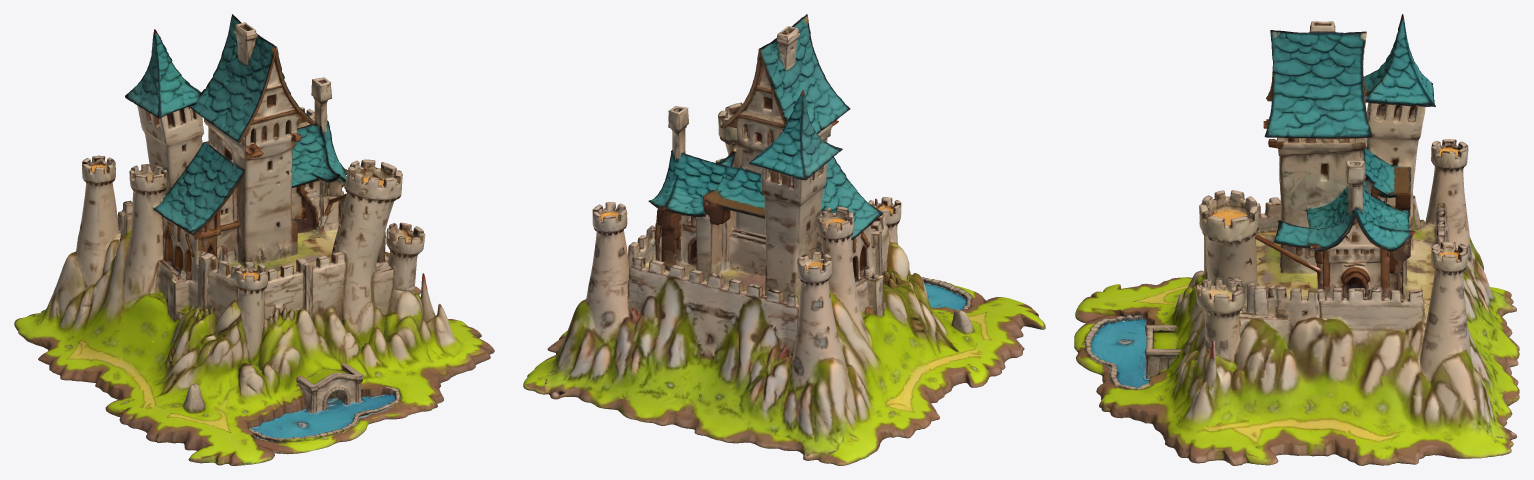
The model's file is Please_provide_an_ima.glb.
3 renders of one model, left to right at view 1: azimuth 30°, elevation 25°; view 2: azimuth 150°, elevation 25°; view 3: azimuth 270°, elevation 25°, orthographic. The views are drawn at different scales.
Parts seen in each view (by area): view 1: Please_provide_an_ima; view 2: Please_provide_an_ima; view 3: Please_provide_an_ima.
Boxes of the visible parts, left/top/right/bottom form: Please_provide_an_ima: left=14, top=14, right=494, bottom=465; Please_provide_an_ima: left=523, top=14, right=1045, bottom=465; Please_provide_an_ima: left=1074, top=14, right=1519, bottom=465.
Size of the model in its own units: 1.87 by 1.62 by 1.9.
1 material, 1 textured.
